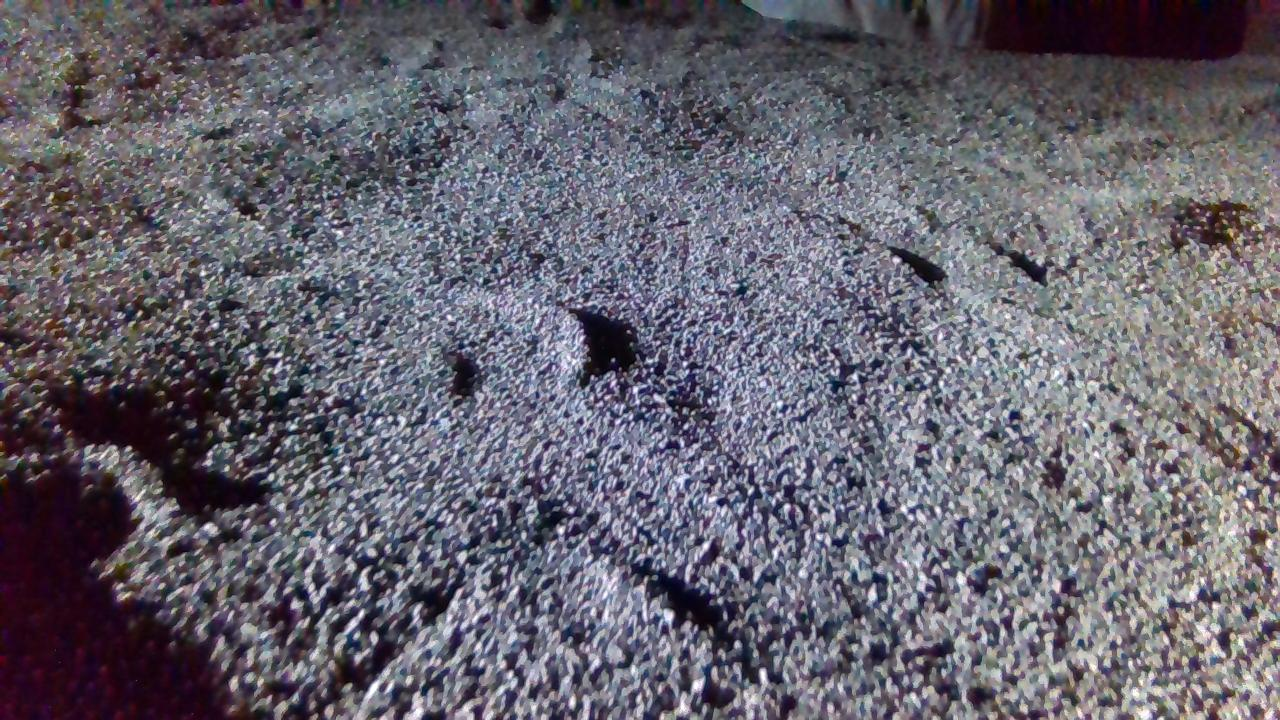rock: (744, 0, 981, 44)
